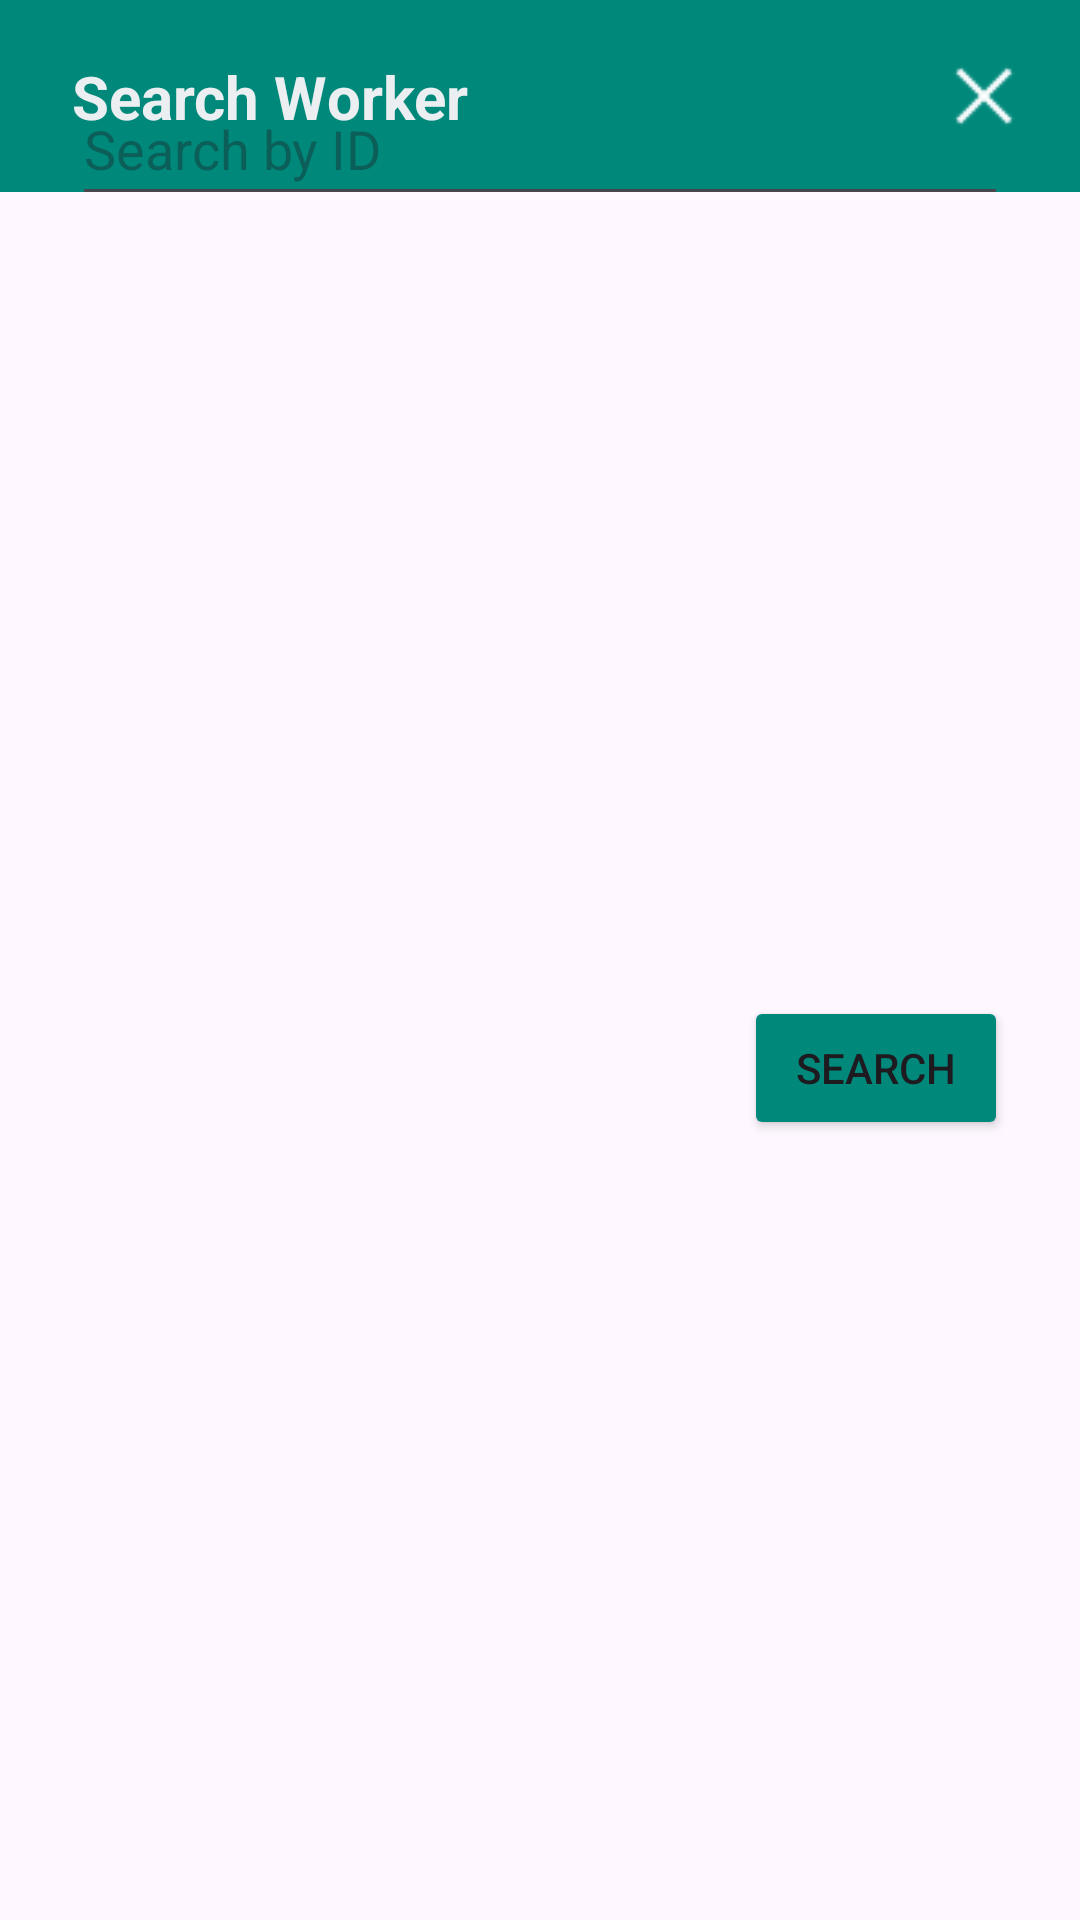

Icons on this 1080×1920 Android screen, each with the point to tap as point (x, y):
Close: point (984, 96)
